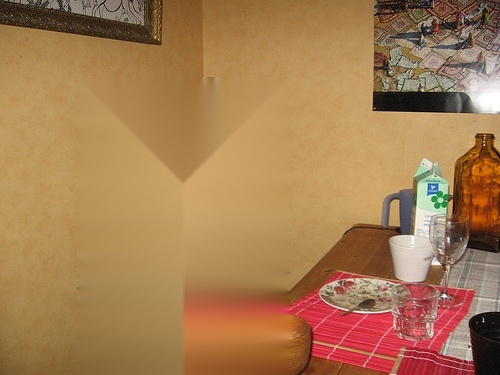bottle: (452, 131, 500, 253)
cat: (197, 199, 289, 323)
diningtable: (204, 223, 500, 375)
